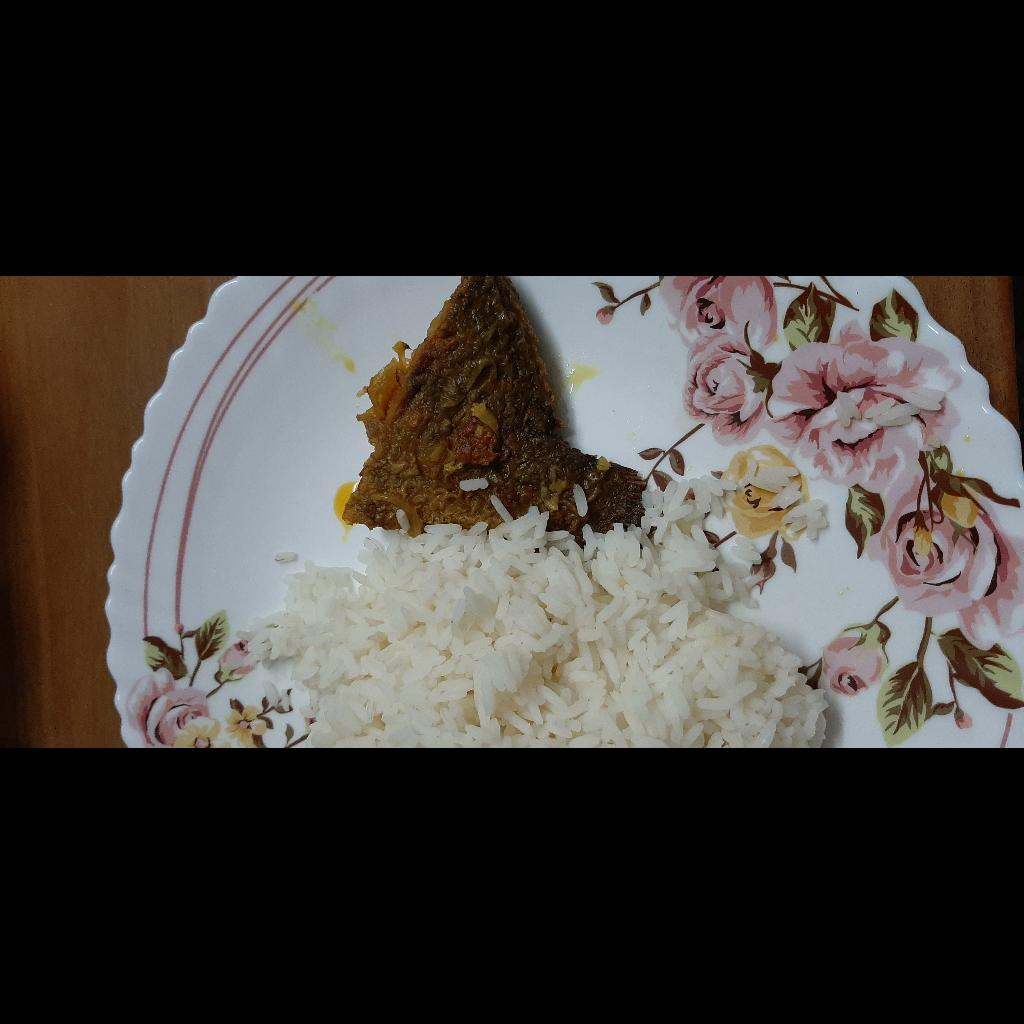fish: (220, 614, 469, 921)
rice: (0, 516, 288, 1024)
